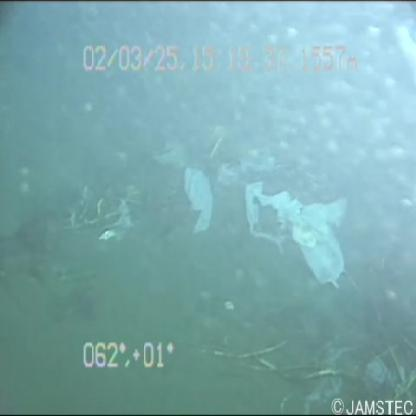Rác: (241, 172, 350, 297), (172, 152, 221, 250)
